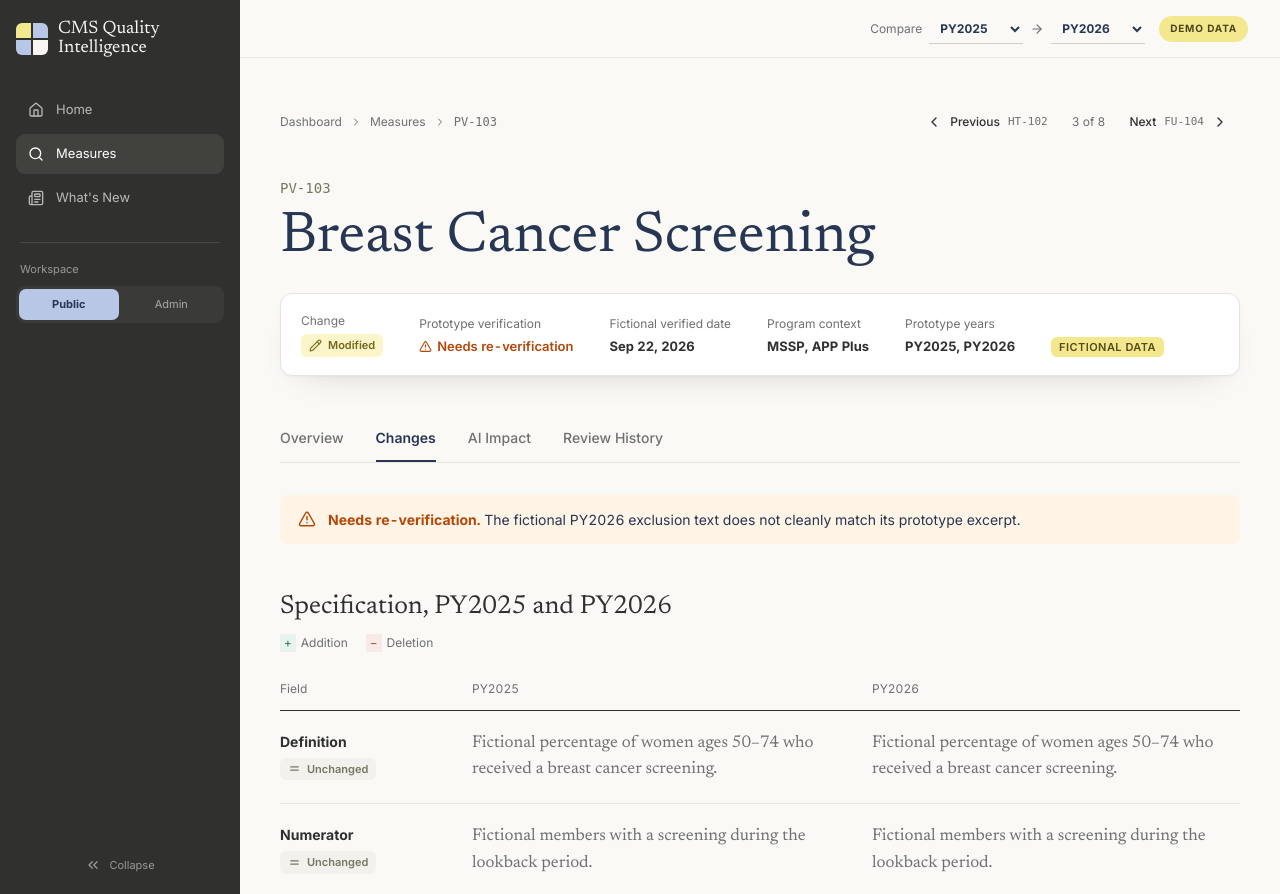
Test case: Checkpoint B navigation routes › renders measure detail interactions on a stable direct route
Expected: the heading "Breast Cancer Screening" is shown, [280,209,875,266]
Expected: the message shows "Needs re-verification", [328,511,480,528]
Press the mouse on the tab "AI Impact" at (499, 439), box [468,416,531,462]
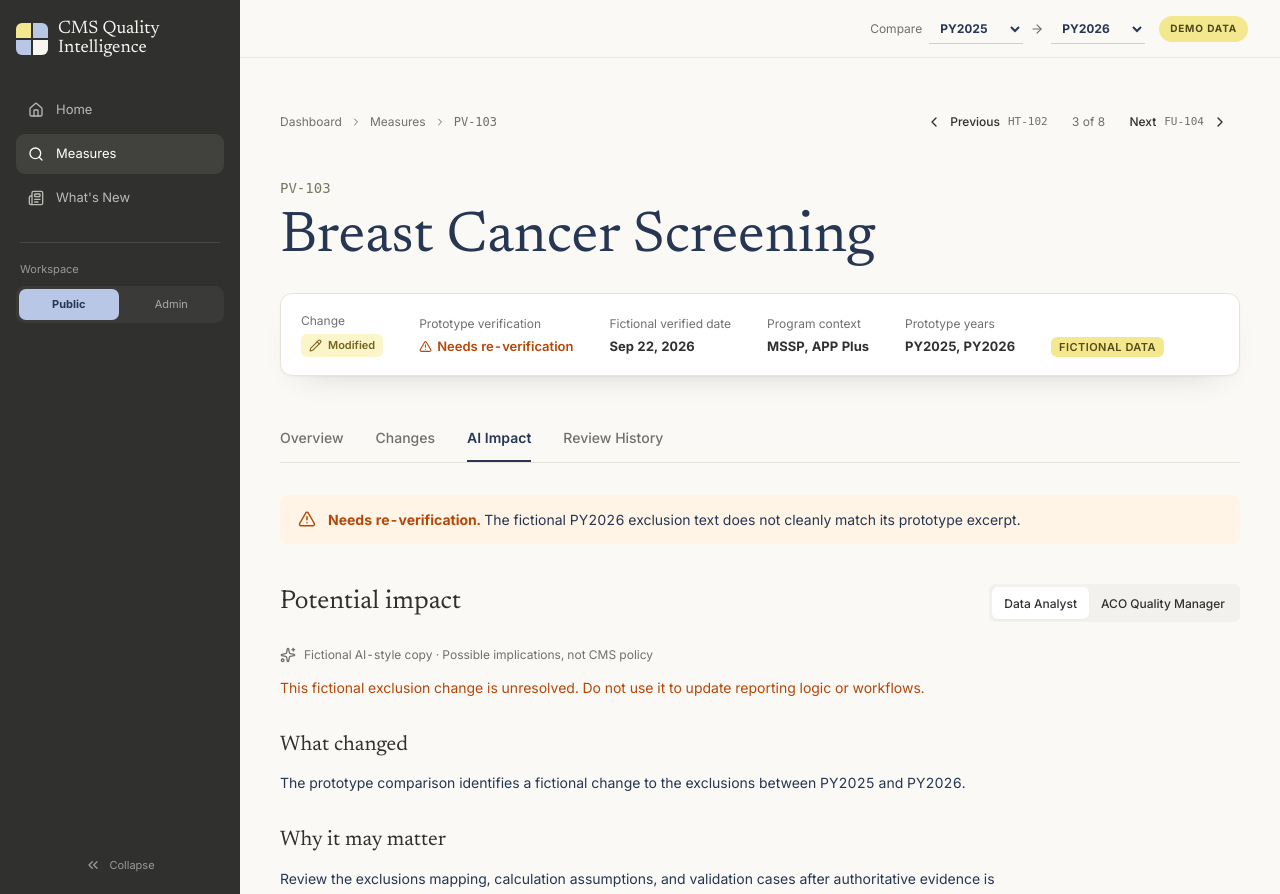
Click the button "ACO Quality Manager" at (1163, 603), box [1089,587,1237,619]
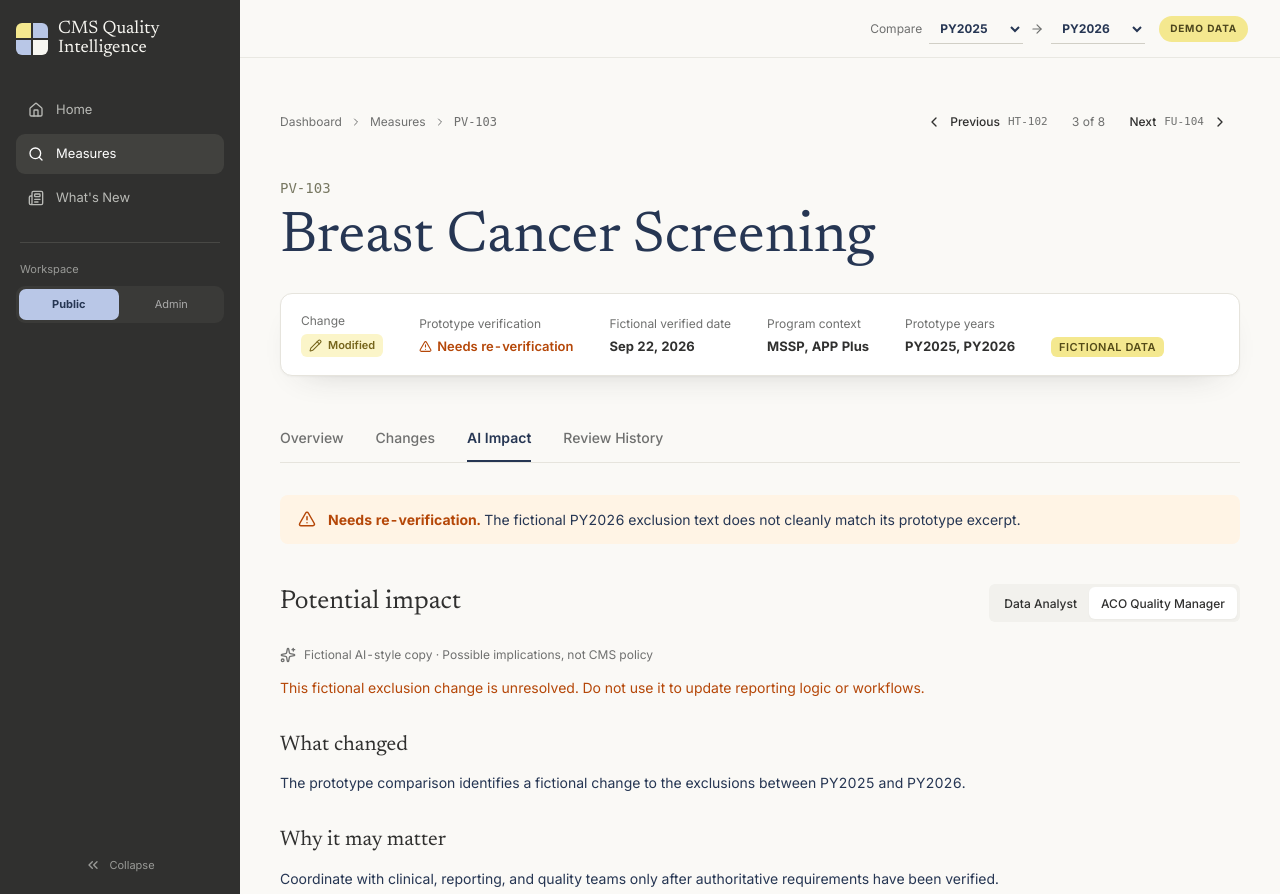
Now the text "Coordinate with clinical, reporting, and quality teams" is shown, box [280,870,999,887]
